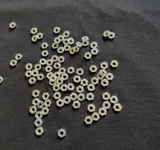nut: (110, 96, 119, 105), (58, 129, 66, 139), (113, 104, 123, 112), (35, 128, 44, 136), (92, 113, 100, 122), (99, 108, 107, 117), (103, 102, 112, 110), (35, 112, 43, 120), (85, 117, 93, 125), (103, 93, 111, 101), (88, 105, 96, 113), (73, 101, 81, 109), (37, 101, 45, 109), (44, 100, 52, 108), (32, 90, 40, 98), (63, 97, 71, 105), (70, 93, 78, 101), (87, 93, 95, 101), (88, 84, 96, 92), (101, 79, 109, 87), (81, 79, 89, 87), (101, 62, 109, 70), (33, 98, 40, 107), (35, 120, 43, 127), (42, 108, 49, 116), (57, 100, 64, 108), (43, 93, 50, 101), (54, 93, 62, 100), (78, 94, 85, 102), (67, 84, 75, 91), (77, 86, 84, 94), (92, 77, 99, 85), (97, 73, 105, 80), (37, 74, 45, 81), (68, 67, 75, 75), (10, 60, 18, 67), (15, 54, 23, 61), (111, 61, 119, 68), (90, 66, 98, 73), (25, 64, 33, 71), (45, 66, 53, 73), (30, 107, 37, 114), (29, 78, 36, 85), (53, 85, 60, 92), (61, 85, 68, 92), (100, 70, 107, 77), (49, 79, 56, 86), (57, 78, 64, 85), (74, 76, 81, 83), (62, 74, 69, 81), (50, 76, 57, 83), (47, 73, 54, 80), (54, 72, 61, 79), (59, 68, 66, 75), (77, 69, 84, 76), (25, 71, 32, 78), (32, 70, 39, 77), (35, 64, 42, 71), (40, 59, 47, 66), (58, 56, 65, 63), (32, 35, 39, 42), (85, 52, 92, 59), (91, 42, 98, 49), (104, 31, 111, 38), (58, 47, 65, 54), (73, 46, 80, 53), (54, 27, 61, 34), (68, 38, 75, 45), (63, 31, 70, 38), (106, 74, 114, 80), (51, 56, 59, 62), (41, 43, 49, 49), (91, 49, 99, 55), (54, 38, 62, 44), (54, 63, 61, 69), (46, 60, 53, 66), (42, 51, 49, 57), (31, 28, 38, 34), (109, 33, 116, 39), (52, 43, 59, 49), (70, 48, 77, 54), (64, 45, 71, 51), (76, 42, 83, 48), (82, 41, 89, 47), (58, 36, 65, 42), (37, 33, 43, 39), (63, 39, 69, 45), (82, 37, 89, 42), (10, 23, 16, 28), (0, 77, 4, 84)
